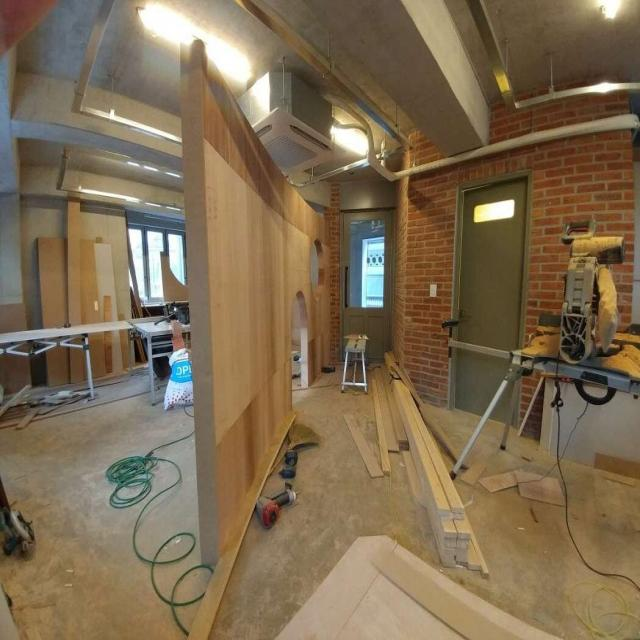board: (38, 238, 106, 387)
bricks: (390, 77, 634, 434), (324, 182, 342, 364)
wood: (384, 352, 472, 568), (344, 415, 384, 478), (371, 378, 391, 476)
